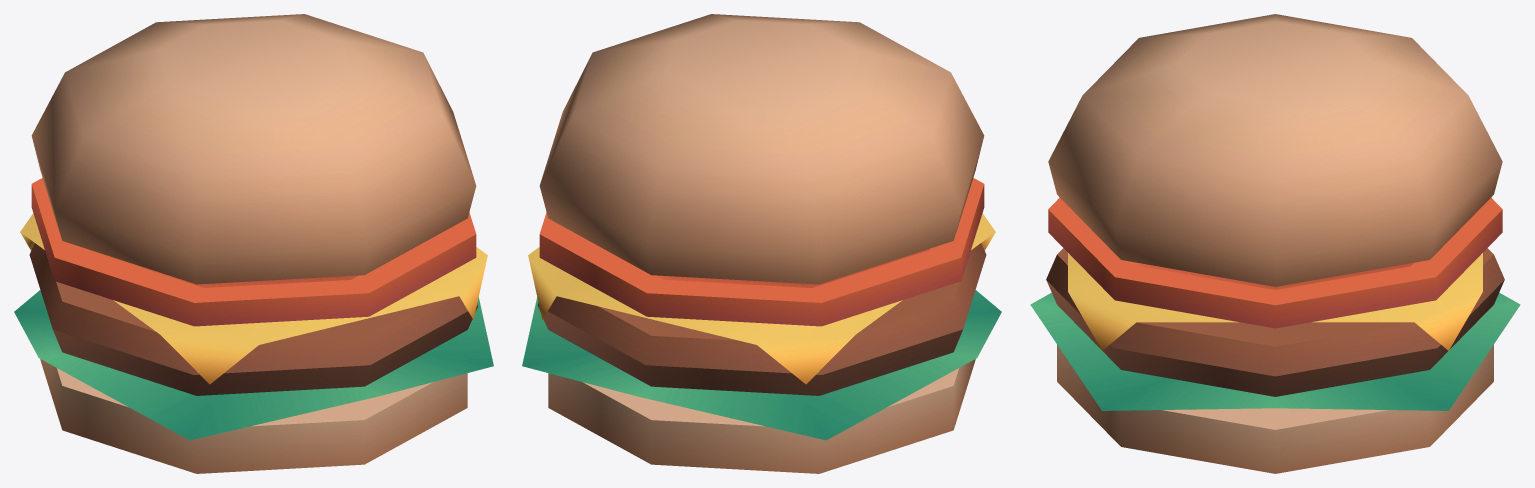
File: burger.opt.glb
The picture shows the model from 3 angles, left to right: view 1: azimuth 30°, elevation 25°; view 2: azimuth 150°, elevation 25°; view 3: azimuth 270°, elevation 25°; orthographic projection.
Parts seen in each view (by area): view 1: bun-top, patty, bun-bottom, tomato, salad, cheese; view 2: bun-top, patty, bun-bottom, tomato, salad, cheese; view 3: bun-top, patty, tomato, bun-bottom, salad, cheese.
Part boxes in pixels (box(x1,y1,x2,y2)): bun-top: box(31, 14, 476, 284); patty: box(29, 243, 478, 395); bun-bottom: box(40, 359, 467, 473); tomato: box(31, 178, 476, 326); salad: box(14, 290, 493, 440); cheese: box(20, 213, 487, 384); bun-top: box(539, 14, 984, 284); patty: box(537, 243, 986, 395); bun-bottom: box(548, 359, 975, 473); tomato: box(539, 178, 984, 326); salad: box(522, 290, 1001, 440); cheese: box(528, 213, 995, 384); bun-top: box(1048, 14, 1502, 286); patty: box(1046, 248, 1504, 396); tomato: box(1048, 197, 1502, 328); bun-bottom: box(1057, 344, 1493, 473); salad: box(1030, 292, 1520, 410); cheese: box(1068, 253, 1482, 350).
Size of the model in its own units: 0.4041 by 0.29 by 0.4041.
Materials: 1 (1 with a texture image).
